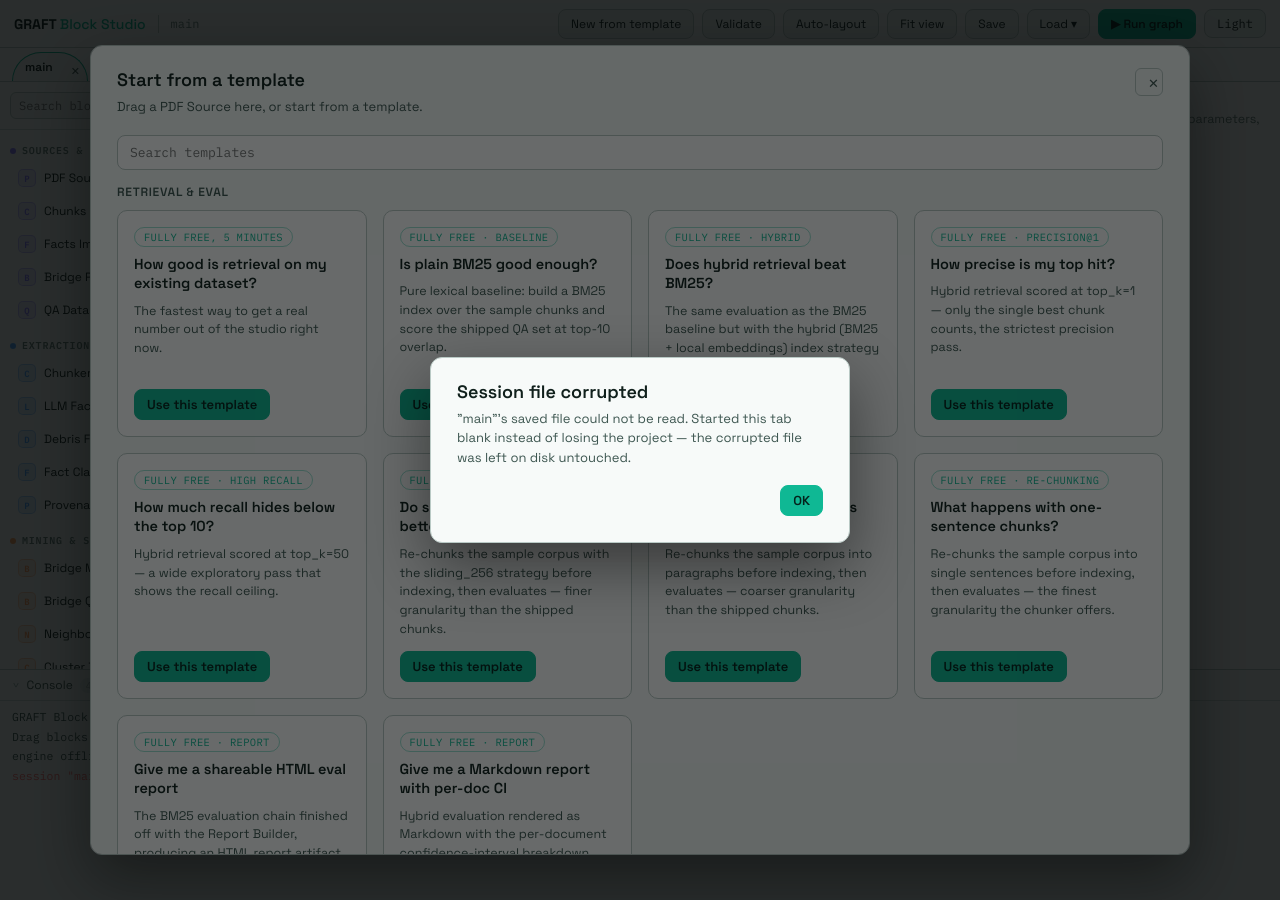
Test: StudioShell — B-M1 autosave + crash recovery › shows a corrupted-file dialog and starts blank instead of crashing
dismiss and confirm no further disruption
Step 1. Click the button "OK" → point(802, 501), box [780,485,823,516]
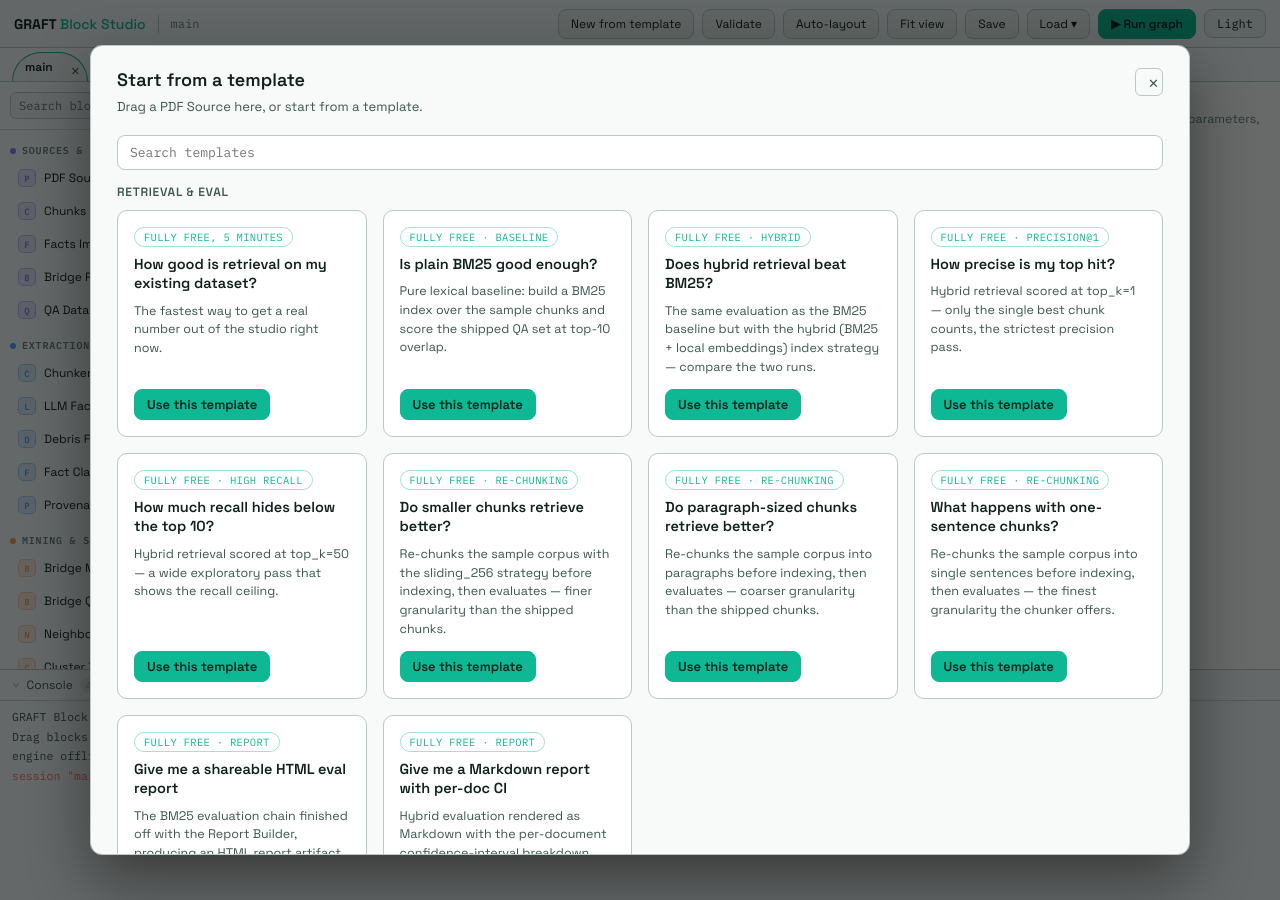
Expected: the text "Session file corrupted" is gone
